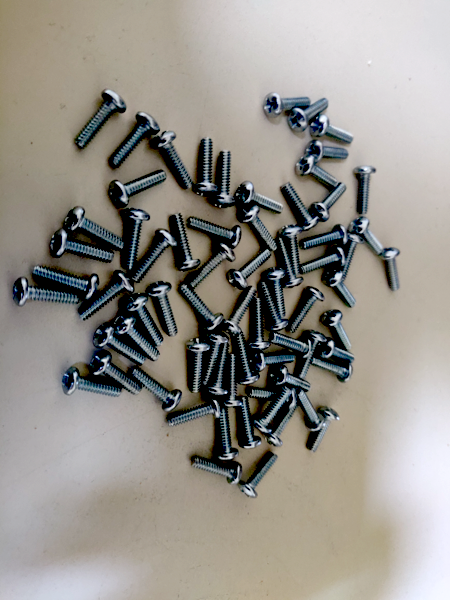shortscrew: (74, 89, 128, 150), (108, 111, 160, 169), (77, 270, 134, 321), (65, 207, 126, 251), (152, 130, 193, 192), (132, 229, 178, 283), (186, 242, 237, 289), (89, 351, 142, 396), (32, 266, 100, 301), (113, 314, 161, 363), (131, 367, 183, 412), (109, 169, 167, 208), (180, 283, 224, 333), (94, 324, 147, 365), (125, 293, 165, 347), (50, 230, 115, 263), (227, 247, 273, 290), (12, 278, 80, 307), (169, 212, 201, 272), (239, 452, 279, 499), (282, 182, 319, 232), (146, 281, 178, 338), (252, 387, 290, 434), (166, 396, 221, 428), (187, 217, 242, 249), (221, 286, 256, 336), (61, 368, 121, 397), (289, 287, 325, 335), (123, 208, 150, 270), (235, 181, 284, 215), (193, 138, 220, 197), (276, 235, 305, 289), (306, 407, 340, 453), (309, 183, 348, 223), (265, 400, 298, 447), (201, 332, 229, 386), (191, 456, 243, 485), (298, 330, 327, 382), (212, 150, 237, 208), (299, 246, 348, 275), (295, 155, 339, 187), (205, 341, 230, 397), (288, 98, 329, 132), (186, 338, 211, 393), (323, 269, 357, 309), (214, 408, 240, 460), (234, 333, 260, 385), (350, 217, 384, 256), (262, 92, 311, 119), (310, 114, 354, 144), (300, 224, 348, 251), (321, 310, 352, 351), (248, 298, 272, 350), (268, 331, 312, 359), (279, 224, 303, 275), (297, 388, 325, 431), (248, 386, 297, 410), (269, 365, 314, 391), (222, 354, 243, 409), (354, 166, 377, 215), (248, 350, 295, 373), (313, 357, 353, 383), (341, 234, 364, 279), (317, 337, 355, 363), (306, 141, 350, 163), (382, 248, 401, 292)
